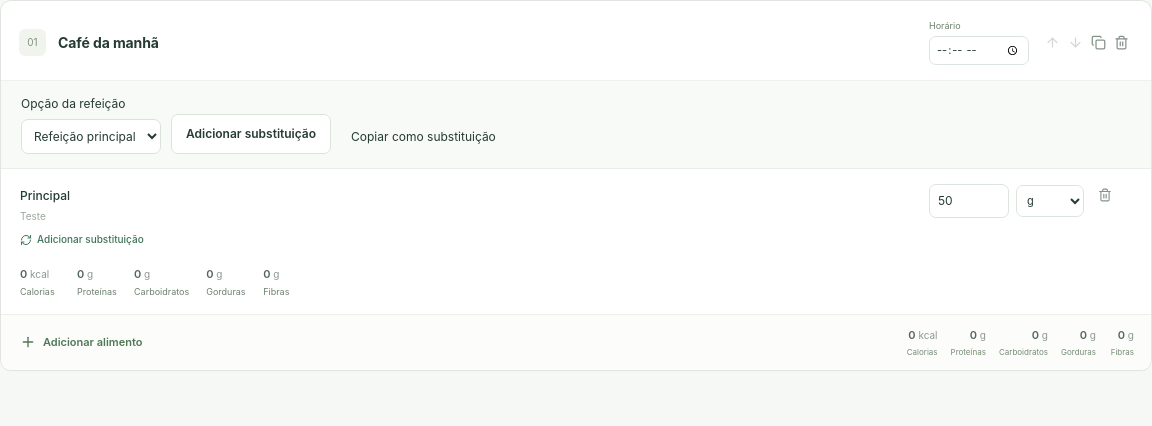
Test: cria substituição vazia, permite renomear e recupera alimentos da principal
Click the button "Adicionar substituição" below "Opção da refeição" at [251, 134], box [171,114,331,154]
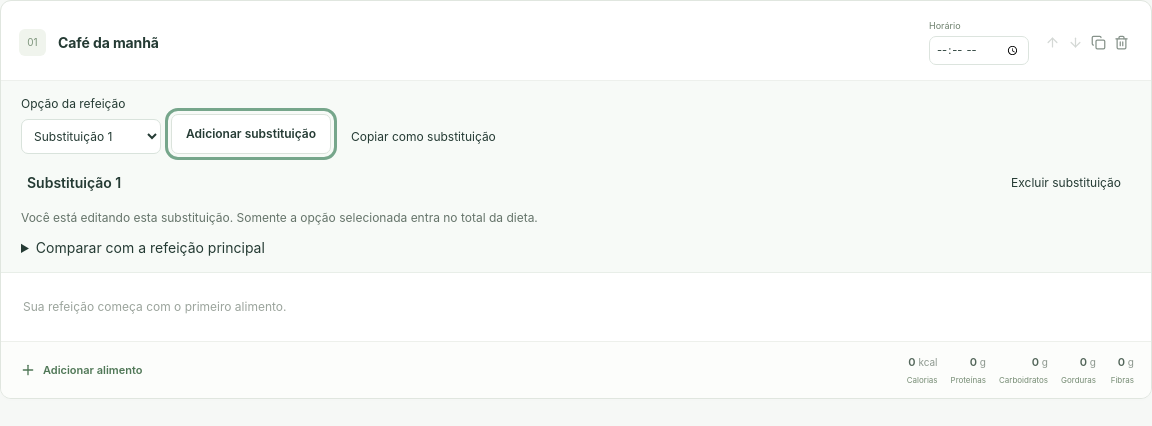
Replace the text in the field named "Nome da substituição de Café da manhã" with "Alternativa com ovos" at [138, 182], box [21,166,254,199]
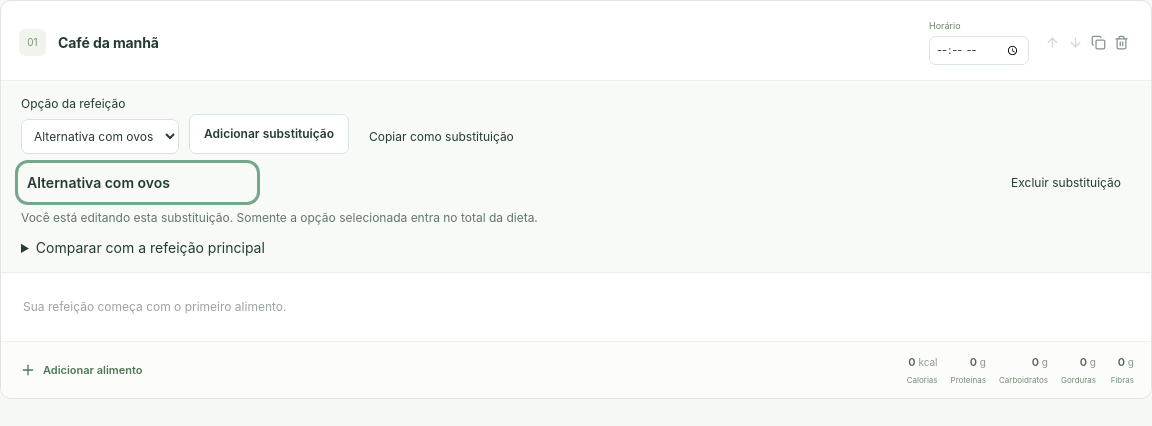
Press Tab
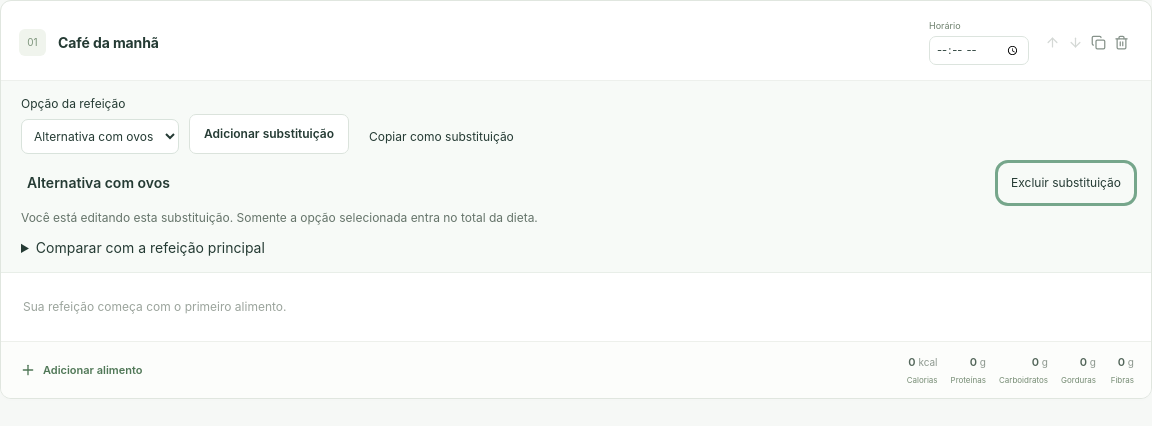
Select "Refeição principal" in the dropdown named "Opção de Café da manhã" at [100, 136], box [21,119,179,154]
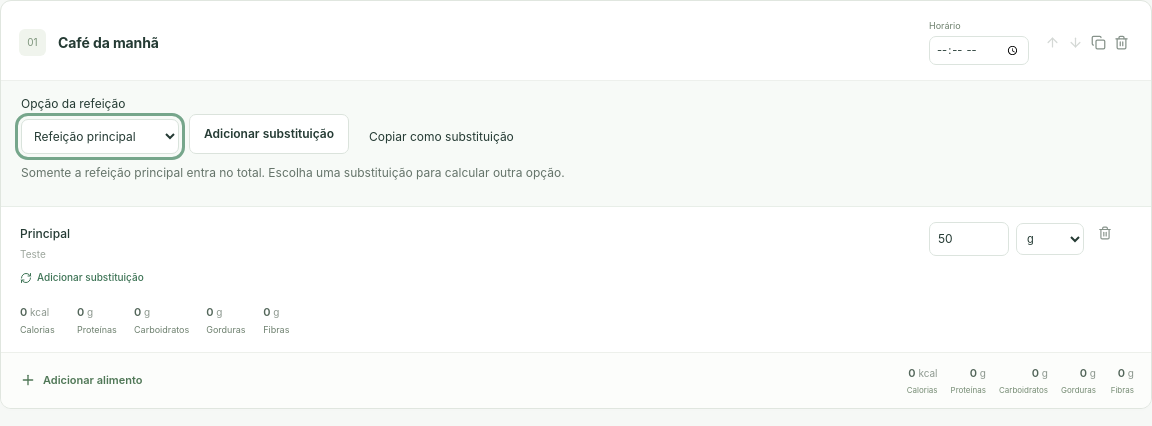
Result: the button "Principal" is shown at [20,225,70,243]
